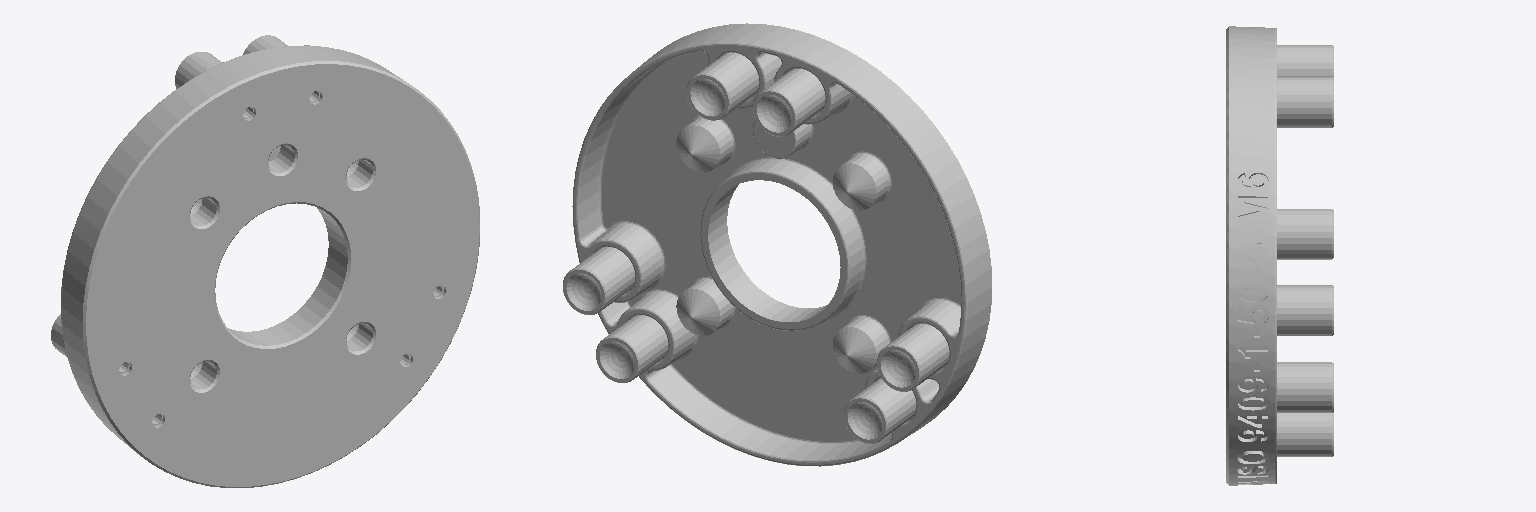
Rendered from end effector with magnets v1.obj.
3 views of the same model, side by side, from view 1: azimuth 30°, elevation 25°; view 2: azimuth 150°, elevation 25°; view 3: azimuth 270°, elevation 25° (orthographic).
Visible parts, largest first — view 1: Body1:6, Body1:1, Body1:2; view 2: Body1:6, Body1:5, Body1:3, Body1:4, Body1:1, Body1:2, Body1; view 3: Body1:6, Body1, Body1:2, Body1:5, Body1:3, Body1:4, Body1:1.
Boxes of the visible parts, x1=… form: Body1:6: x1=61, y1=45, x2=479, y2=487; Body1:1: x1=175, y1=52, x2=253, y2=118; Body1:2: x1=243, y1=35, x2=319, y2=102; Body1:6: x1=572, y1=23, x2=991, y2=466; Body1:5: x1=563, y1=247, x2=634, y2=314; Body1:3: x1=877, y1=324, x2=949, y2=391; Body1:4: x1=596, y1=315, x2=667, y2=382; Body1:1: x1=753, y1=69, x2=825, y2=136; Body1:2: x1=687, y1=52, x2=758, y2=120; Body1: x1=844, y1=378, x2=915, y2=443; Body1:6: x1=1226, y1=26, x2=1276, y2=485; Body1: x1=1277, y1=285, x2=1333, y2=335; Body1:2: x1=1277, y1=77, x2=1333, y2=127; Body1:5: x1=1277, y1=362, x2=1333, y2=412; Body1:3: x1=1277, y1=209, x2=1333, y2=259; Body1:4: x1=1277, y1=412, x2=1333, y2=456; Body1:1: x1=1277, y1=45, x2=1333, y2=77.
Size of the model in its own units: 9.01 by 9.01 by 2.1.